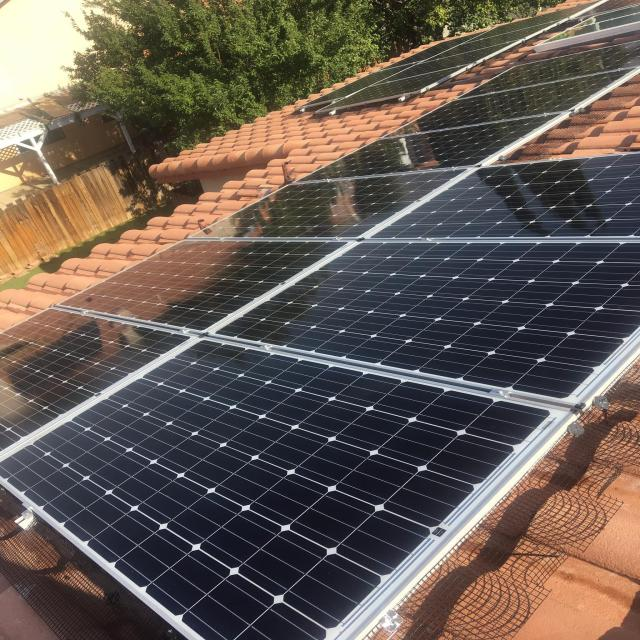clean-solar-panel: (0, 1, 640, 640)
